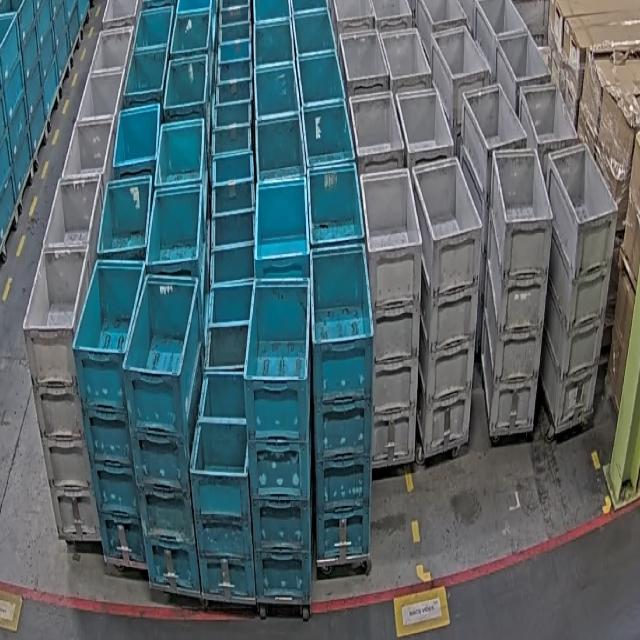4G: (22, 243, 102, 542), (540, 143, 618, 428), (412, 156, 482, 458), (481, 148, 553, 436), (360, 169, 422, 469)
B4: (125, 266, 201, 592), (72, 260, 146, 564), (243, 278, 311, 601), (310, 243, 374, 561)
B8: (189, 371, 256, 598)
